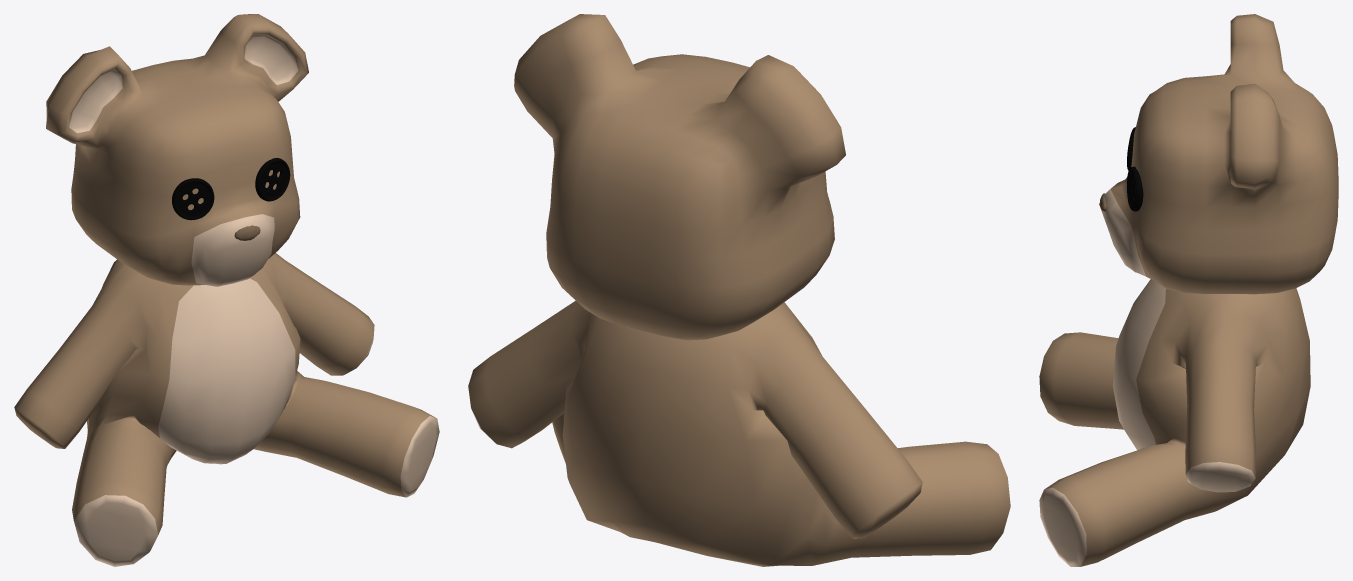
The model's file is teddybear.fbx.
3 views of the same model, side by side, from view 1: azimuth 30°, elevation 25°; view 2: azimuth 150°, elevation 25°; view 3: azimuth 270°, elevation 25° (orthographic). The views are drawn at different scales.
Visible parts, largest first — view 1: teddybearShape; view 2: teddybearShape; view 3: teddybearShape.
Boxes of the visible parts, box(x1,y1,x2,y2) form: teddybearShape: box(14, 14, 439, 566); teddybearShape: box(468, 14, 1010, 566); teddybearShape: box(1039, 14, 1338, 566).
Size of the model in its own units: 14.38 by 16.27 by 10.01.
